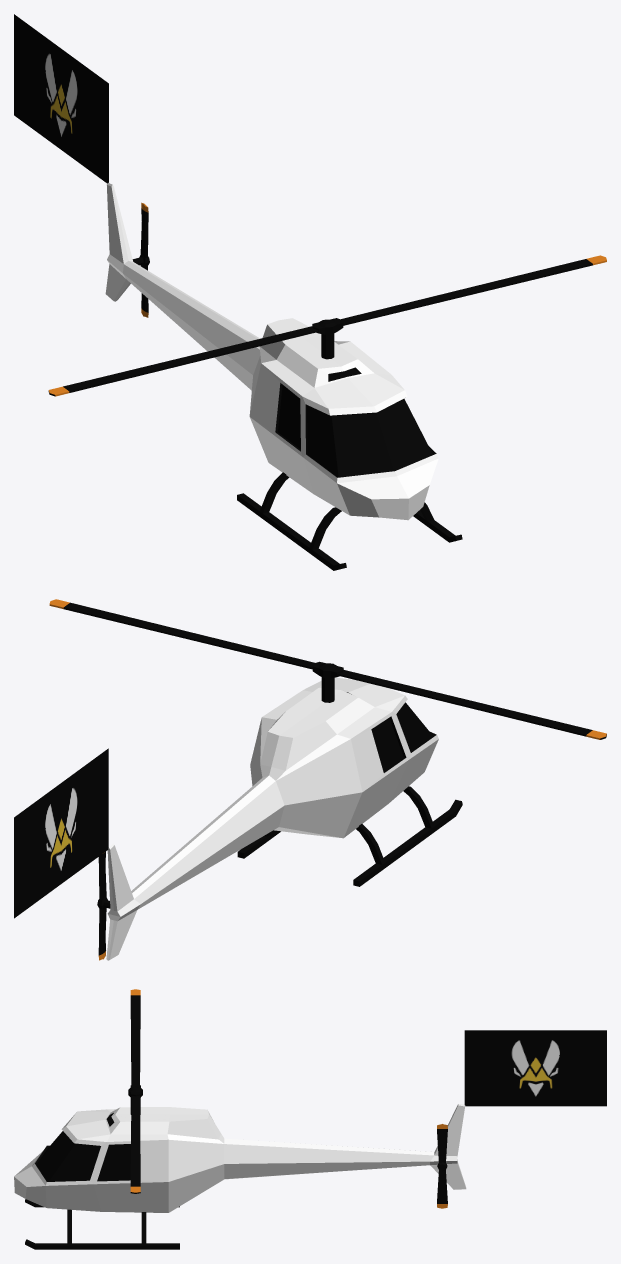
Rendered from vitality-heli.glb.
3 views of the same model, one above another, from view 1: azimuth 30°, elevation 25°; view 2: azimuth 150°, elevation 25°; view 3: azimuth 270°, elevation 25° (orthographic). The views are drawn at different scales.
Parts seen in each view (by area): view 1: helicopter_2, Plane, blades_0, tail_rotor_1; view 2: helicopter_2, Plane, blades_0, tail_rotor_1; view 3: helicopter_2, Plane, blades_0, tail_rotor_1.
Boxes of the visible parts, bbox=[...] form: helicopter_2: bbox=[105, 182, 462, 570]; Plane: bbox=[14, 14, 108, 183]; blades_0: bbox=[48, 255, 606, 396]; tail_rotor_1: bbox=[132, 202, 149, 317]; helicopter_2: bbox=[106, 677, 462, 960]; Plane: bbox=[14, 748, 108, 918]; blades_0: bbox=[49, 599, 606, 739]; tail_rotor_1: bbox=[97, 851, 110, 960]; helicopter_2: bbox=[14, 1103, 466, 1249]; Plane: bbox=[464, 1030, 606, 1106]; blades_0: bbox=[128, 989, 142, 1193]; tail_rotor_1: bbox=[437, 1124, 447, 1208].
Bounding box in the file's own units: 11.49 × 5.19 × 14.15.
2 materials, 2 textured.
